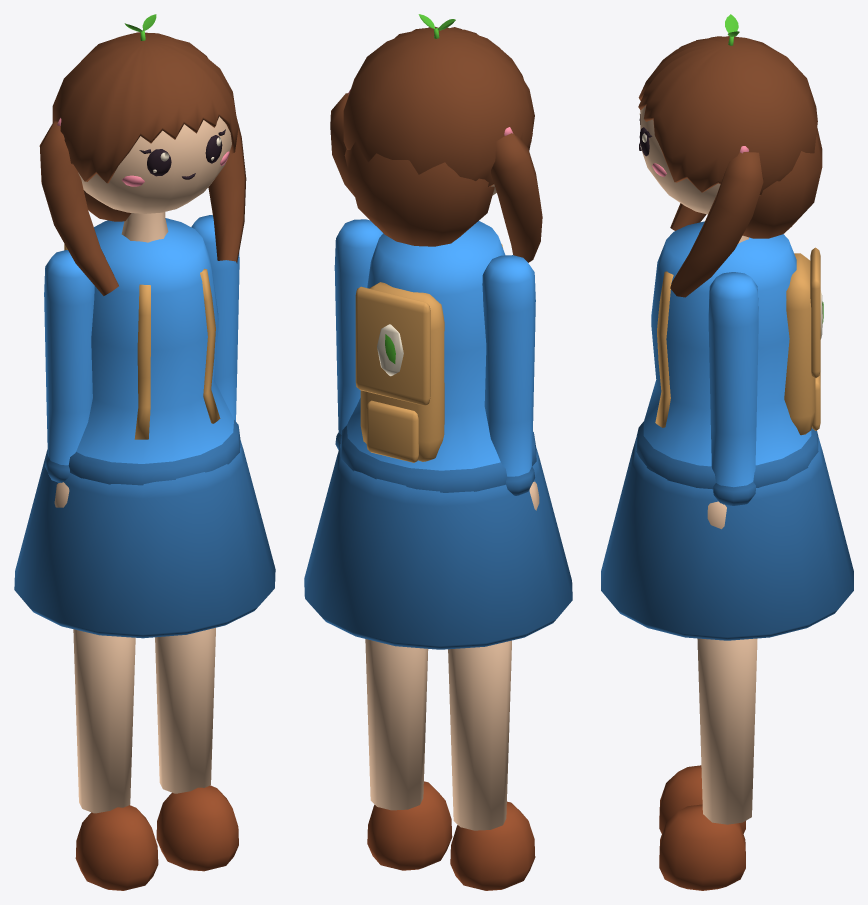
File: hero-woman-grown.glb
3 views of the same model, side by side, from view 1: azimuth 30°, elevation 25°; view 2: azimuth 150°, elevation 25°; view 3: azimuth 270°, elevation 25° (orthographic). The views are drawn at different scales.
Parts seen in each view (by area): view 1: body, head, leg-left, leg-right, arm-left, arm-right; view 2: body, head, leg-left, leg-right, arm-left, arm-right; view 3: body, head, leg-right, arm-right, leg-left.
Part boxes in pixels (box(x1,y1,x2,y2)): body: box(14, 218, 275, 638); head: box(39, 32, 246, 295); leg-left: box(73, 629, 158, 890); leg-right: box(155, 627, 238, 871); arm-left: box(44, 250, 94, 507); arm-right: box(191, 215, 239, 421); body: box(304, 221, 572, 649); head: box(330, 26, 542, 262); leg-left: box(448, 640, 535, 890); leg-right: box(365, 639, 452, 870); arm-left: box(482, 255, 539, 510); arm-right: box(334, 219, 383, 450); body: box(601, 221, 853, 640); head: box(638, 36, 822, 297); leg-right: box(659, 638, 757, 890); arm-right: box(707, 272, 758, 529); leg-left: box(659, 765, 745, 833).
Bounding box in the file's own units: 0.8589 × 2.99 × 0.8169.
